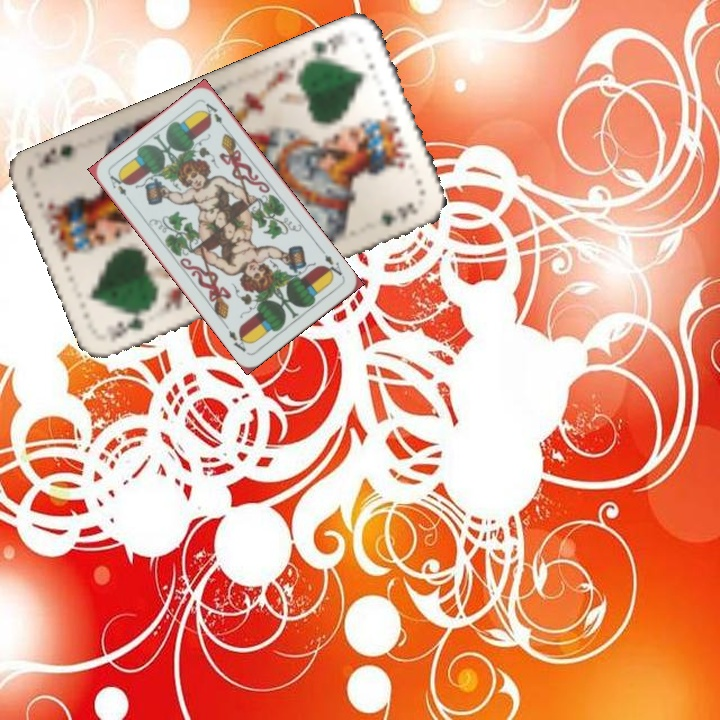EA: (105, 170, 134, 206), (317, 245, 346, 280)
GK: (103, 306, 155, 344), (302, 31, 348, 67)
